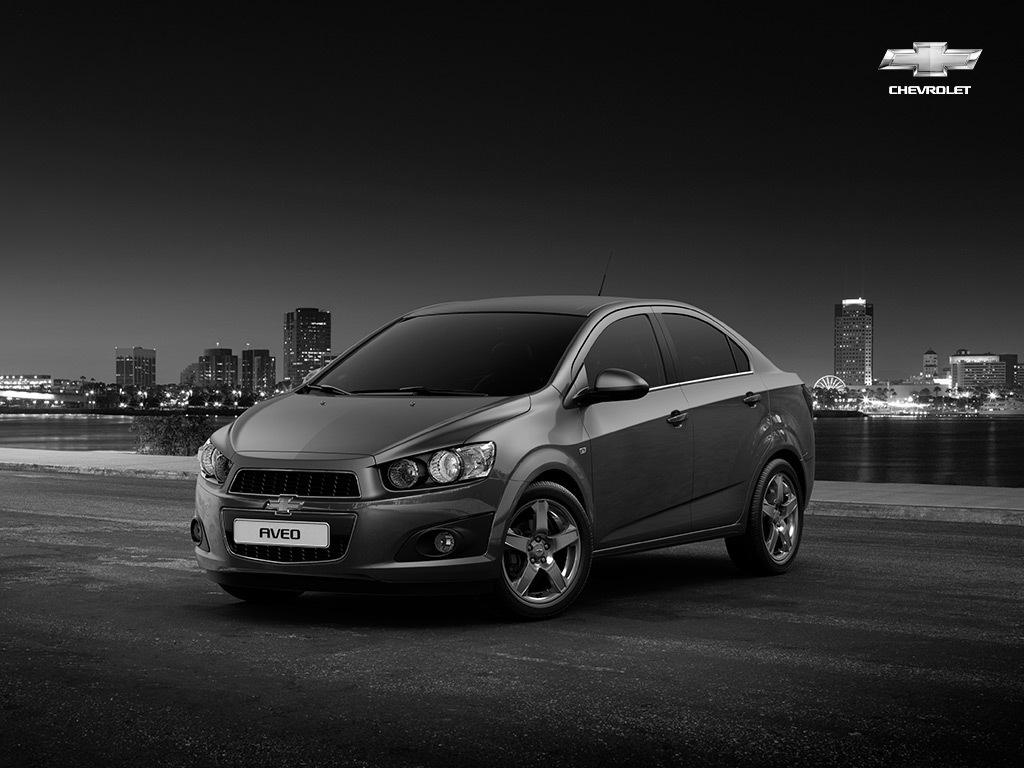car: (183, 295, 815, 623)
